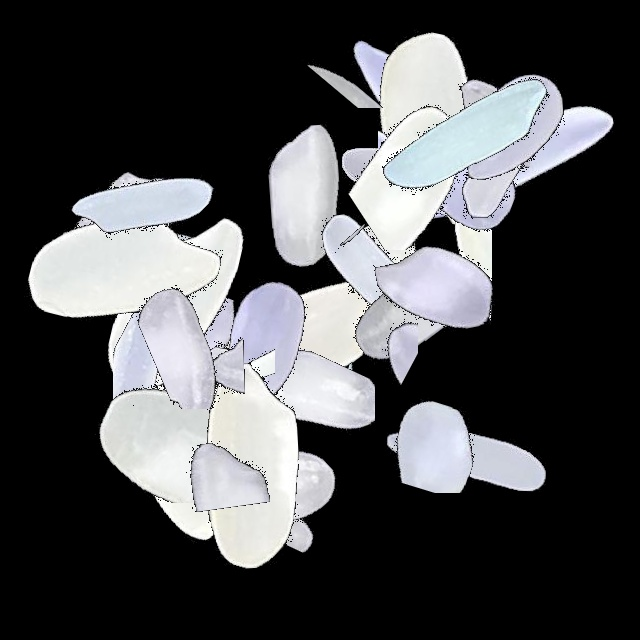Broken: (44, 338, 294, 503), (97, 240, 259, 490), (217, 307, 375, 557), (302, 93, 552, 250), (321, 338, 571, 493), (382, 11, 530, 261), (199, 333, 345, 583), (97, 264, 347, 409), (113, 244, 256, 494), (177, 306, 314, 556), (0, 149, 250, 283), (378, 23, 508, 273), (168, 322, 286, 572), (52, 204, 302, 313), (252, 1, 502, 108), (317, 215, 418, 465), (162, 340, 261, 590), (177, 213, 275, 463), (395, 162, 492, 412), (346, 258, 440, 508), (73, 323, 323, 414), (339, 142, 426, 392), (513, 332, 599, 582), (274, 206, 524, 290), (370, 7, 448, 257), (45, 354, 295, 430)
Full: (288, 0, 538, 250), (282, 51, 532, 301), (390, 34, 640, 284), (164, 219, 414, 469), (309, 0, 559, 250), (342, 333, 592, 583), (181, 69, 431, 319), (115, 336, 365, 586), (254, 147, 504, 397), (293, 184, 543, 434), (0, 92, 250, 342), (61, 271, 311, 521), (337, 57, 587, 307), (144, 355, 394, 605), (141, 217, 391, 467), (64, 340, 314, 590), (48, 175, 298, 425), (309, 166, 559, 416), (382, 31, 632, 281), (0, 146, 250, 396), (390, 0, 640, 250), (126, 339, 376, 589), (19, 78, 269, 328), (341, 11, 591, 261)
